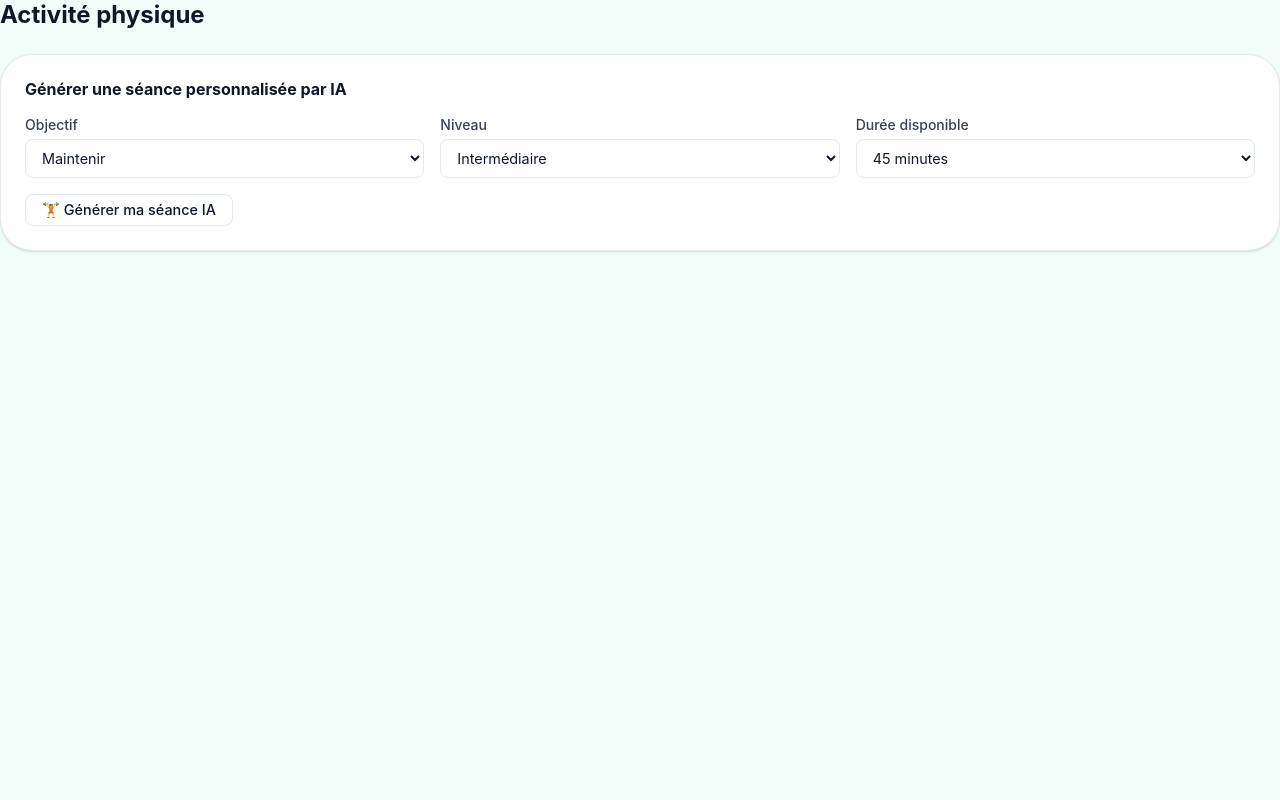
ActivityPage › loads demo workout when service is unavailable
The image size is (1280, 800).
What coordinates should you click on to do the following:
click the button "🏋️ Générer ma séance IA"
I would click on:
 (129, 210)
Its box is [25,194,233,226].
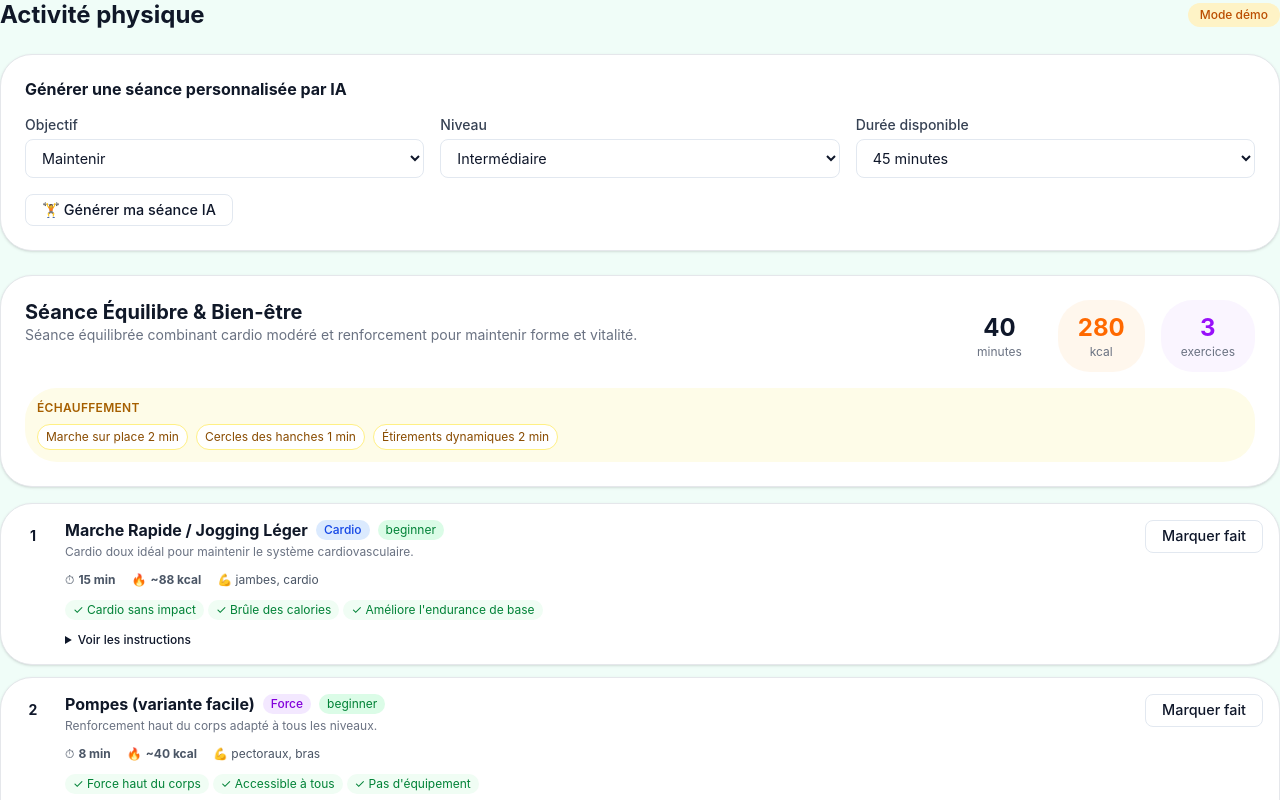
Now the text "Mode démo" is shown, box [1188,3,1279,27]
